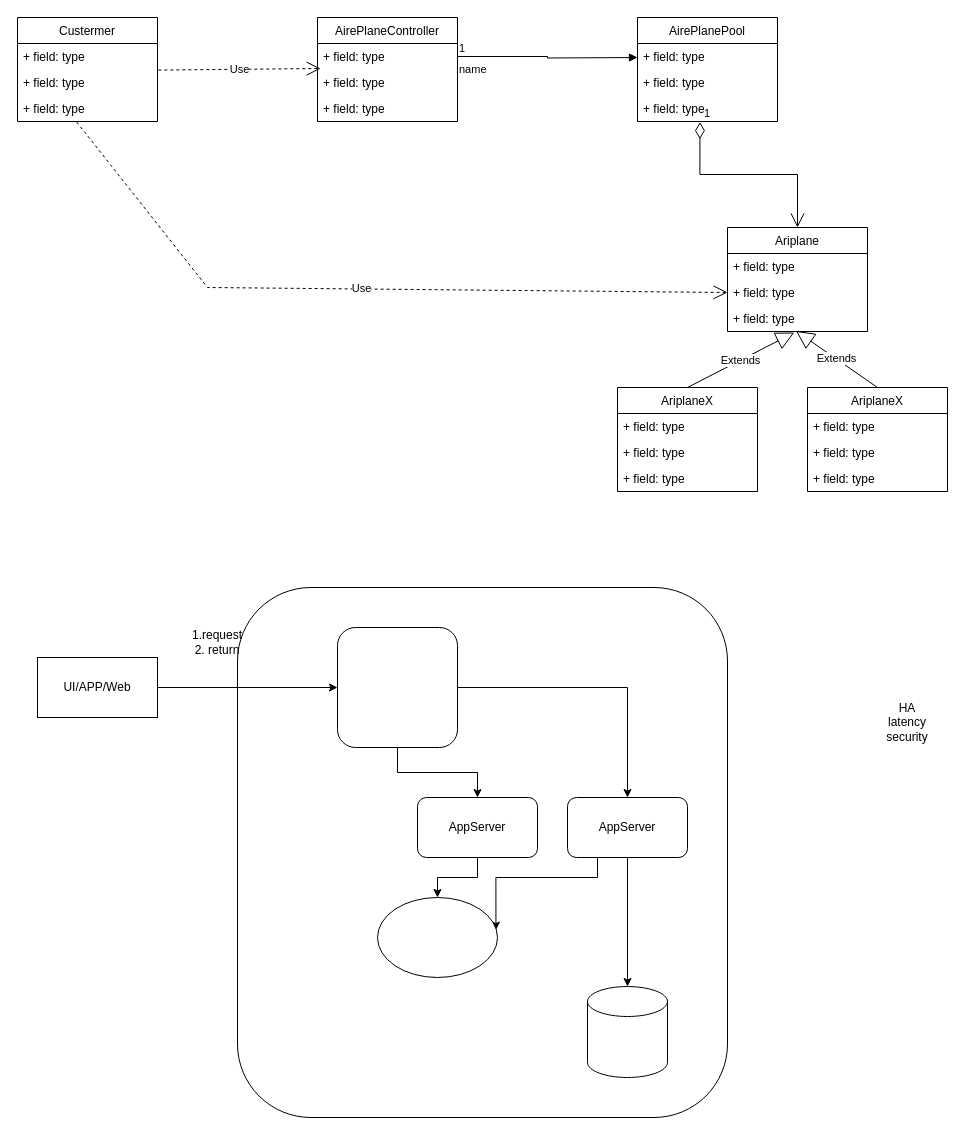
This 965x1135 diagram has some shape labels left out. Each missing label, with the centre of its shape:
"api-server/webserver" goes at point 397,687.
"cache" goes at point 437,937.
"DB" goes at point 627,1032.
